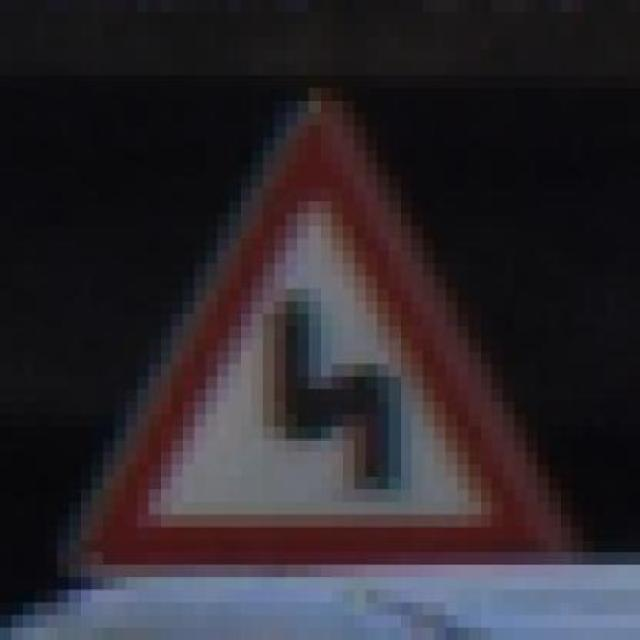Left Zig Zag Traffic: (80, 76, 583, 564)
